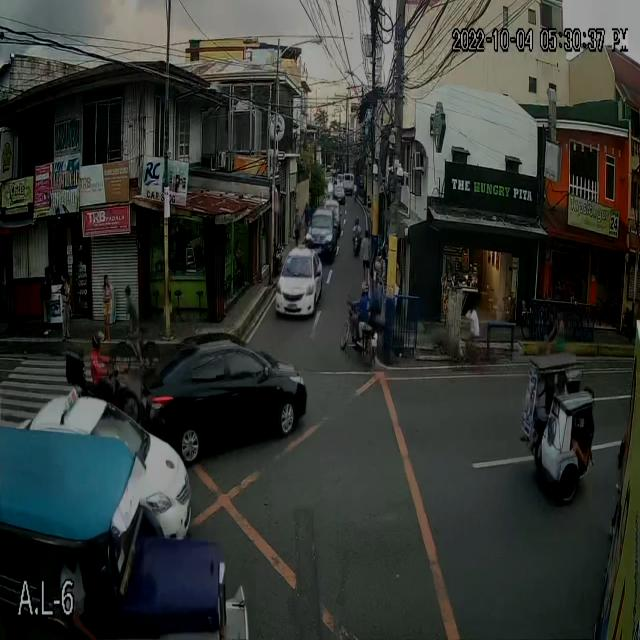Full-Faced: (90, 333, 103, 348), (362, 283, 368, 298)
Half-Faced: (354, 218, 360, 228)
Invalid: (370, 290, 378, 312)
